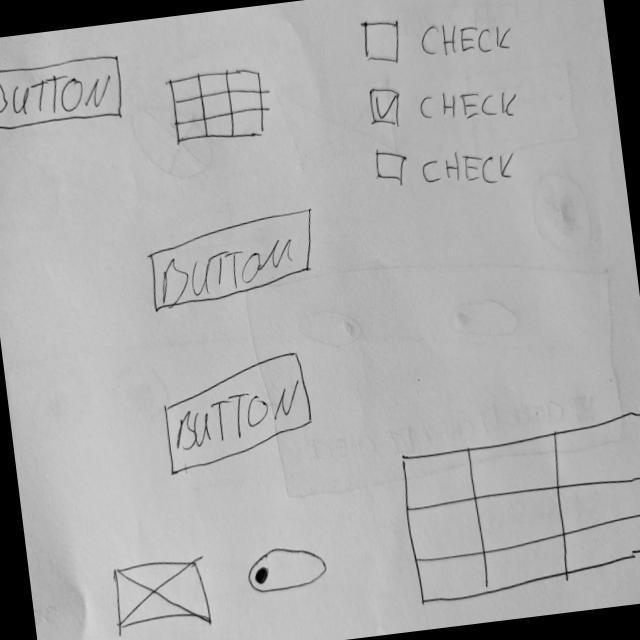button: (153, 347, 322, 480), (139, 205, 325, 317), (1, 52, 130, 138)
checkbox: (357, 1, 520, 75), (362, 67, 524, 141), (372, 131, 521, 202)
image: (109, 554, 219, 639)
table: (394, 404, 640, 608), (164, 62, 275, 152)
toggle: (240, 539, 333, 599)
